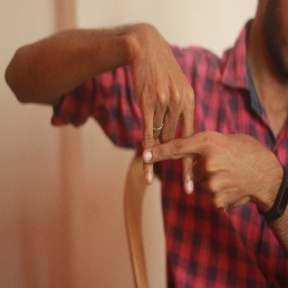H: (120, 82, 231, 199)
